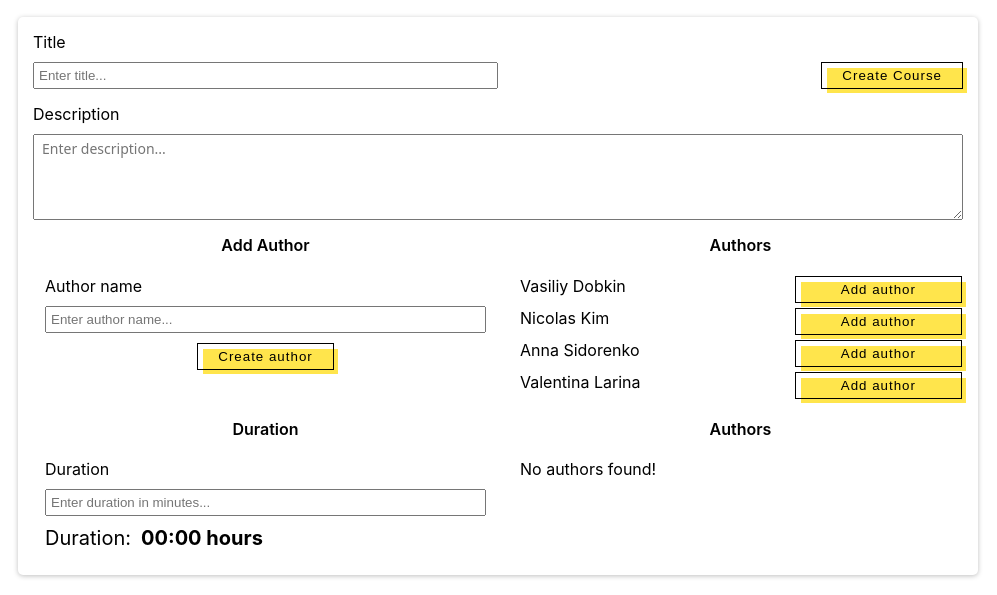
CourseForm component › should delete an author from the course list after a click on a button "Delete author"
This screenshot has width=997, height=595.
Click the button "Add author" in the row of "Vasiliy Dobkin". click: coordinates (878, 289)
box: top-left (795, 276), bottom-right (962, 303)
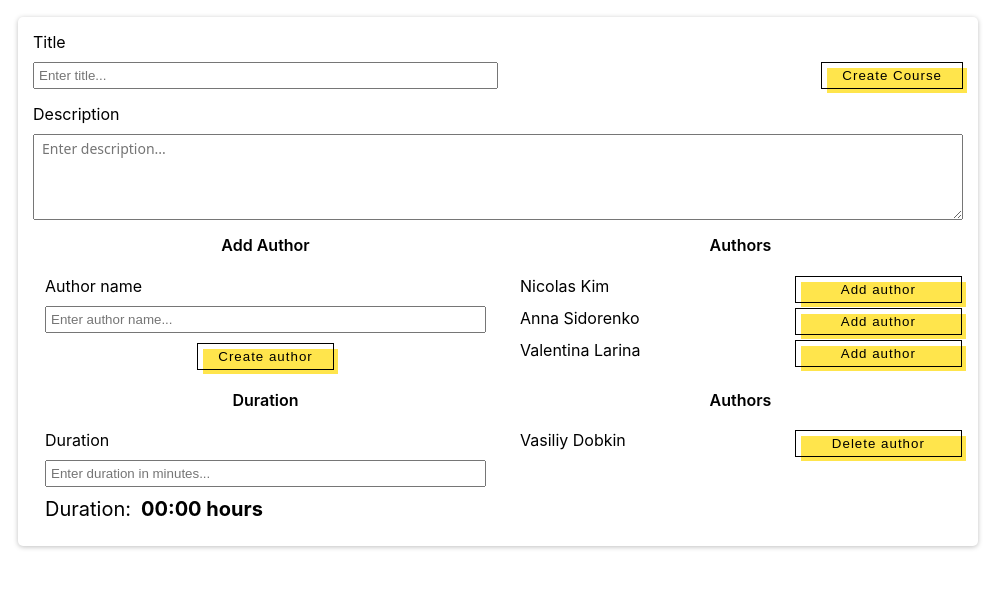
Click the button "Delete author". click: coordinates (878, 444)
box: top-left (795, 430), bottom-right (962, 457)
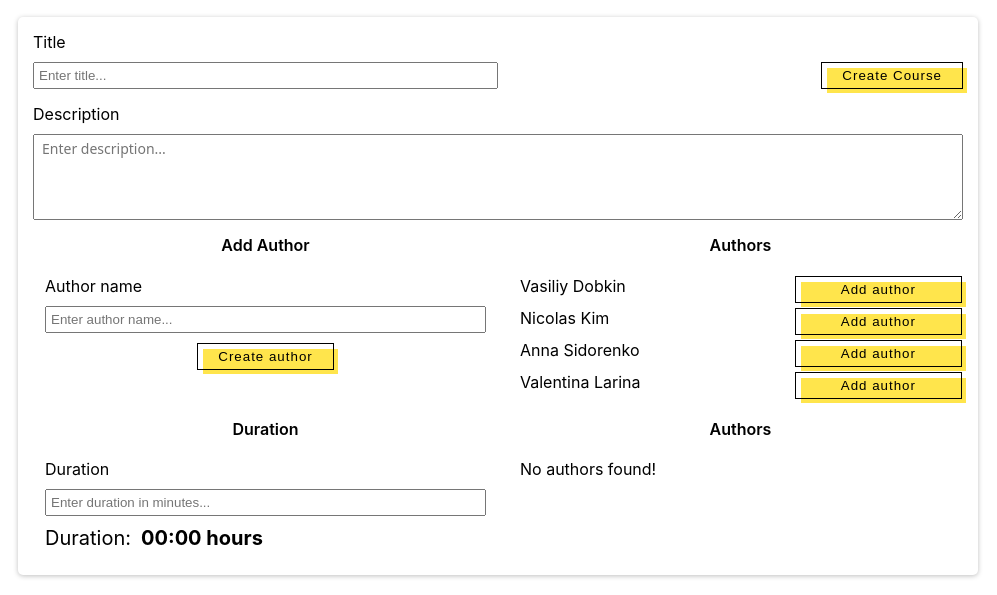
Expected: no list items with test id "authors-course-item" are shown
